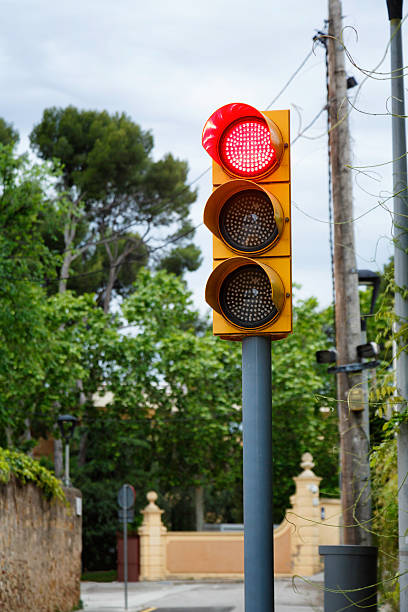trafficlight: (190, 99, 299, 346)
